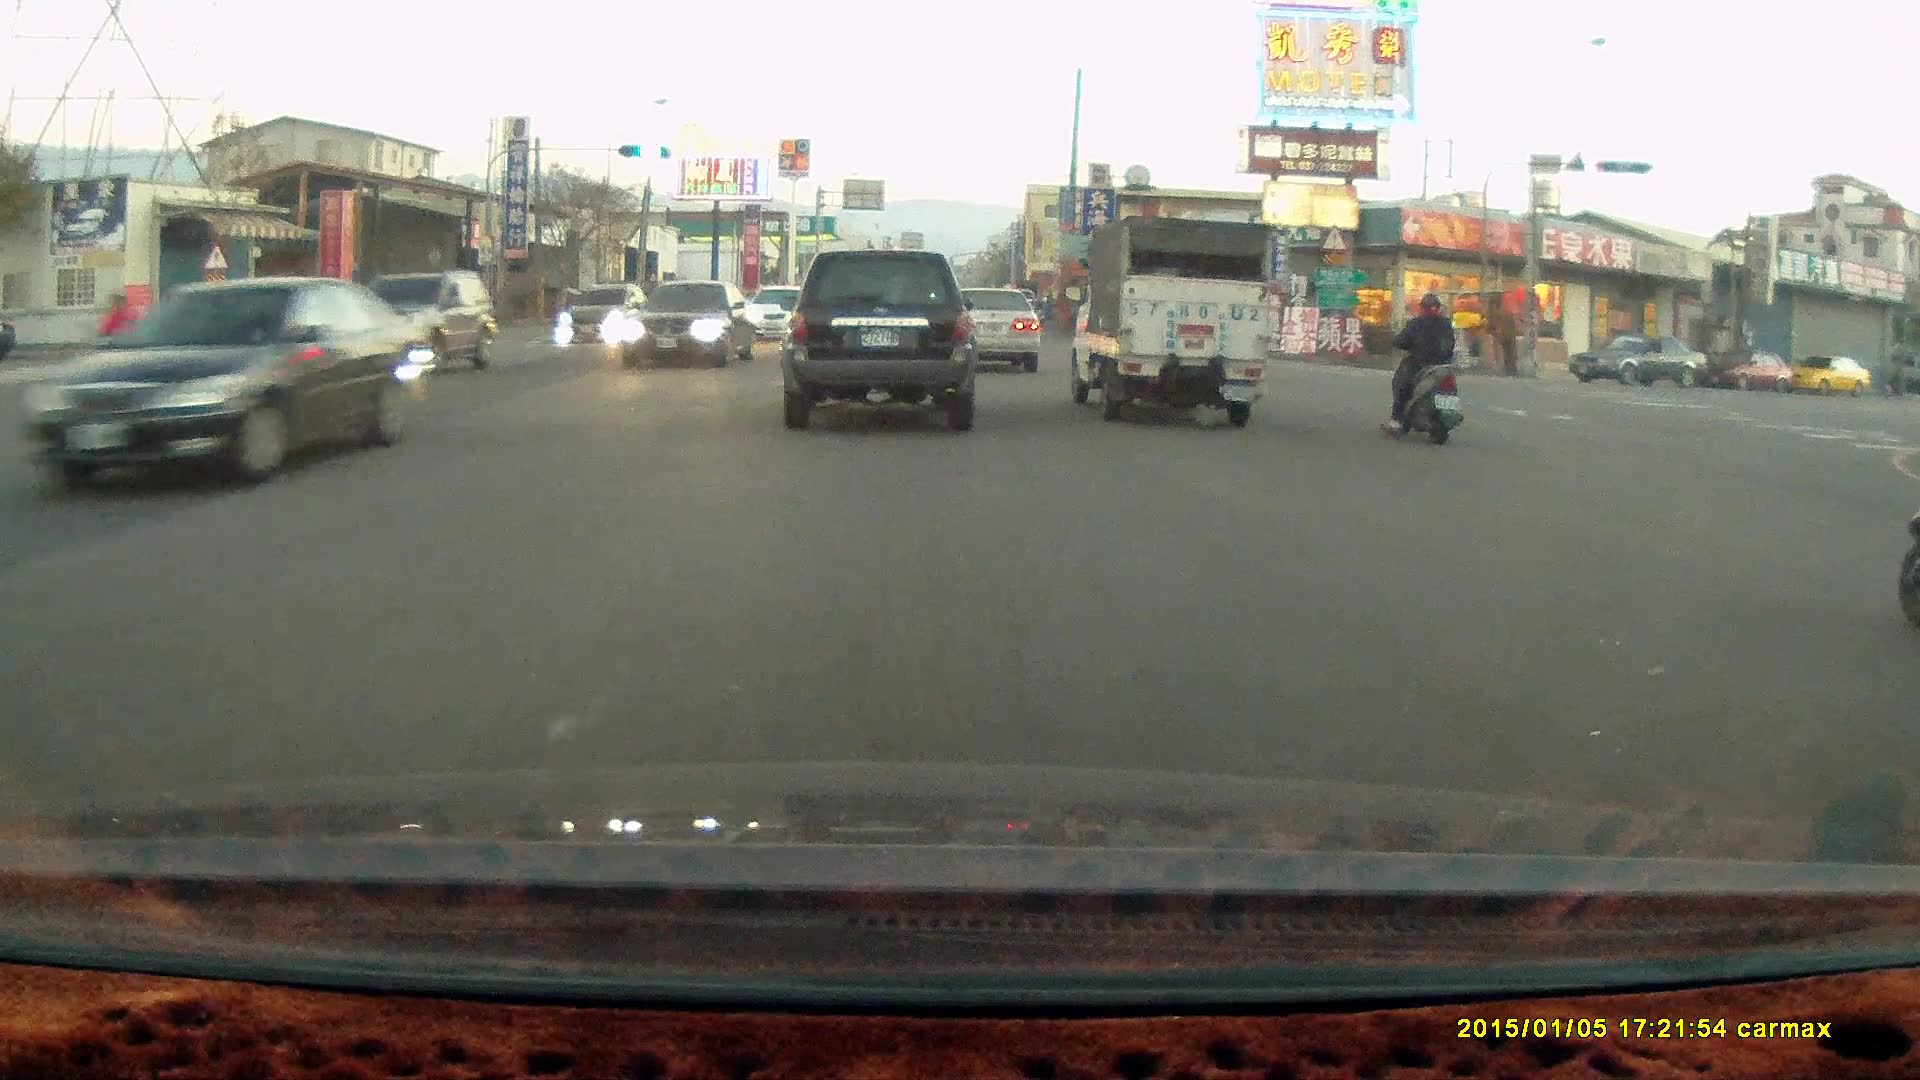rider: (1382, 292, 1461, 448)
vehicle: (33, 284, 435, 500), (1063, 213, 1278, 429), (779, 248, 976, 434), (621, 283, 761, 374), (929, 283, 1041, 375), (944, 287, 1045, 377), (1566, 333, 1714, 390), (563, 284, 648, 347), (351, 290, 462, 337), (1781, 356, 1873, 399), (1708, 351, 1796, 392)
